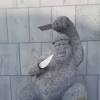Stone Statue: (11, 14, 93, 100)
